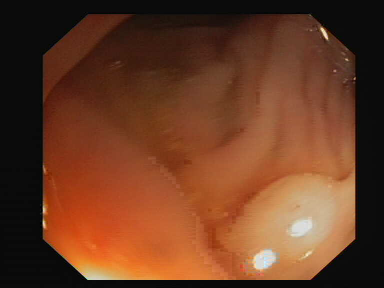polyp: (169, 120, 358, 272)
